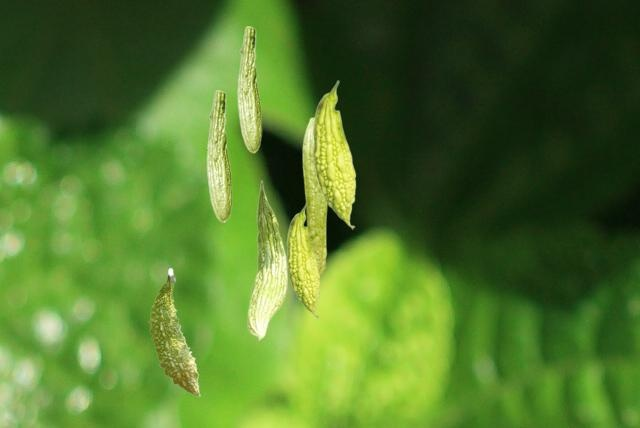ampalaya: (147, 267, 200, 396), (246, 179, 288, 341), (312, 80, 356, 230), (301, 117, 327, 276), (286, 203, 320, 319), (206, 89, 233, 223), (237, 25, 262, 153)
